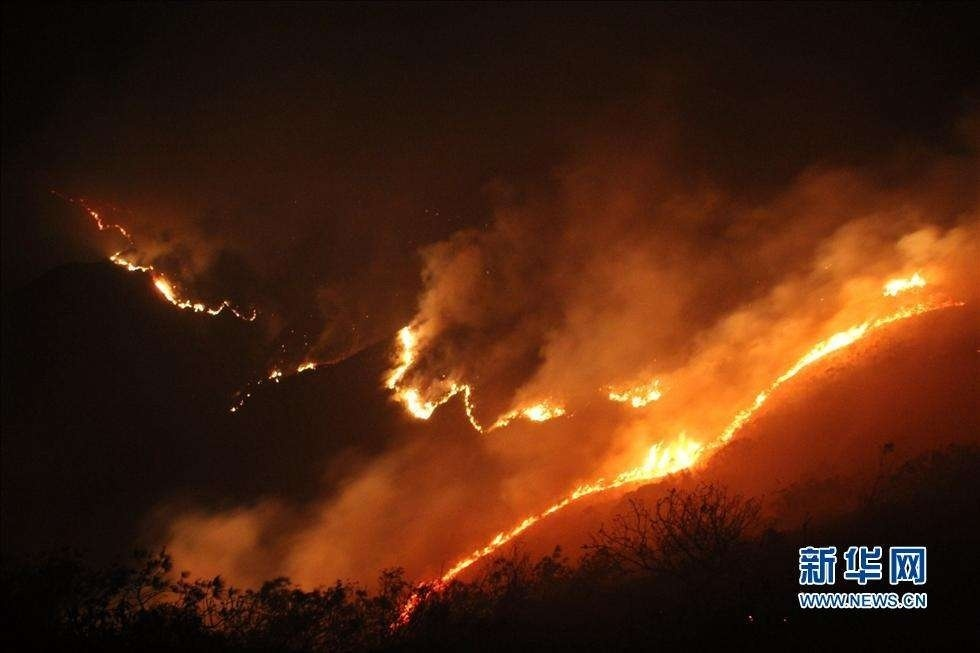fire: (397, 261, 978, 546), (74, 196, 259, 326)
